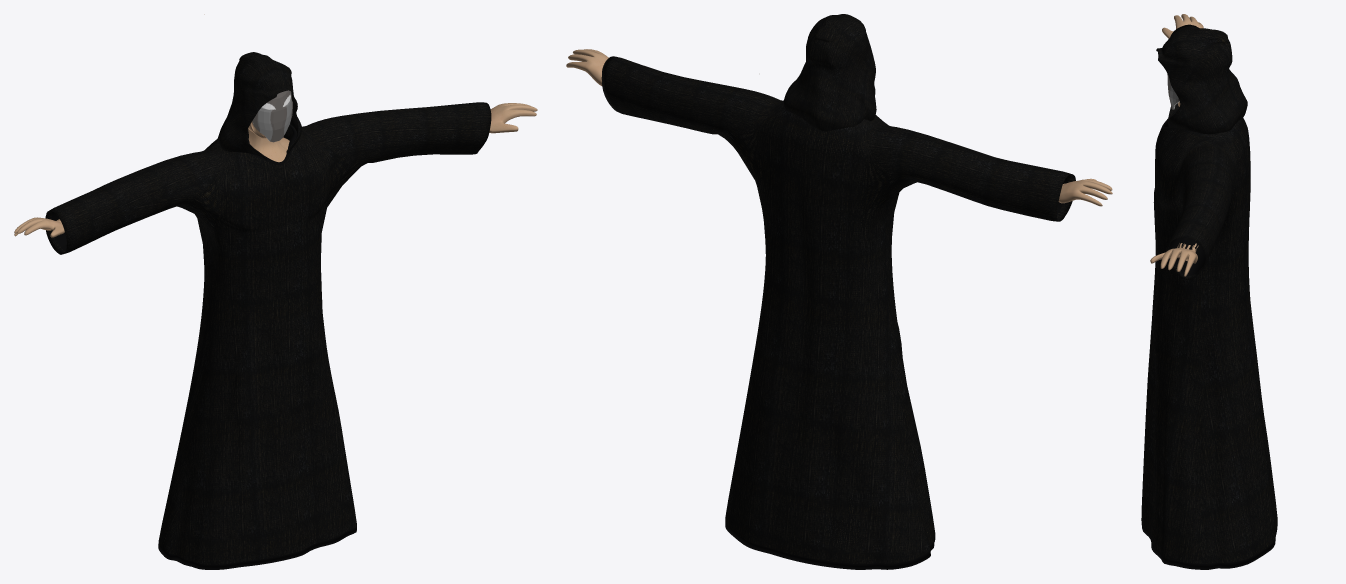
Rendered from inimigo t pose.fbx.
3 renders of one model, left to right at view 1: azimuth 30°, elevation 25°; view 2: azimuth 150°, elevation 25°; view 3: azimuth 270°, elevation 25°, orthographic. The views are drawn at different scales.
Parts seen in each view (by area): view 1: polySurface15, polySurface9, polySurface49, polySurface16, pCube4, polySurface48; view 2: polySurface15, polySurface9, polySurface48, polySurface16; view 3: polySurface15, polySurface9, polySurface16, polySurface48.
Boxes of the visible parts, left/top/right/bottom form: polySurface15: left=45, top=102, right=491, bottom=569; polySurface9: left=217, top=52, right=301, bottom=160; polySurface49: left=252, top=90, right=292, bottom=142; polySurface16: left=489, top=103, right=537, bottom=133; pCube4: left=248, top=129, right=289, bottom=162; polySurface48: left=14, top=217, right=64, bottom=237; polySurface15: left=601, top=56, right=1075, bottom=569; polySurface9: left=783, top=14, right=876, bottom=131; polySurface48: left=1058, top=178, right=1112, bottom=206; polySurface16: left=566, top=49, right=608, bottom=85; polySurface15: left=1141, top=24, right=1277, bottom=569; polySurface9: left=1156, top=28, right=1247, bottom=134; polySurface16: left=1150, top=243, right=1198, bottom=276; polySurface48: left=1162, top=14, right=1203, bottom=38.
Bounding box in the file's own units: 18.3 × 16.37 × 5.71.
